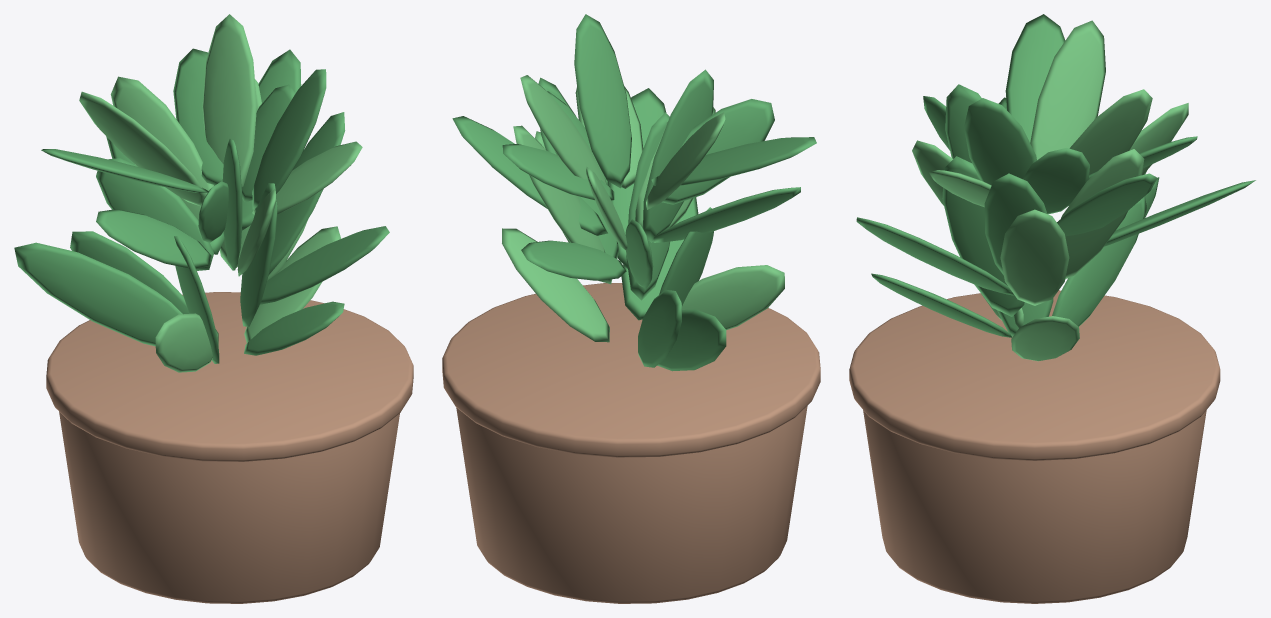
File: plant.glb
3 views of the same model, side by side, from view 1: azimuth 30°, elevation 25°; view 2: azimuth 150°, elevation 25°; view 3: azimuth 270°, elevation 25° (orthographic). The views are drawn at different scales.
Visible parts, largest first — view 1: Cone, Cone.001, Sphere.022, Sphere.024, Sphere.005, Sphere.009, Sphere.010, Sphere.006, Sphere.004, Sphere.014, Sphere.011, Sphere.001 (+13 smaller); view 2: Cone, Cone.001, Sphere.005, Sphere.012, Sphere.021, Sphere.007, Sphere.024, Sphere.020, Sphere.017, Sphere.016, Sphere.019, Sphere.022 (+14 smaller); view 3: Cone, Cone.001, Sphere.009, Sphere, Sphere.005, Sphere.017, Sphere.002, Sphere.001, Sphere.024, Sphere.003, Sphere.008, Sphere.010 (+12 smaller).
Part boxes in pixels (x1,y1,x2,y2): Cone: (59,411,399,603); Cone.001: (46,292,413,461); Sphere.022: (14,242,182,346); Sphere.024: (202,14,256,187); Sphere.005: (252,69,326,209); Sphere.009: (79,91,206,206); Sphere.010: (260,226,389,304); Sphere.006: (110,76,213,220); Sphere.004: (96,209,212,268); Sphere.014: (96,158,213,270); Sphere.011: (173,48,223,184); Sphere.001: (70,231,188,314); Cone: (456,406,807,603); Cone.001: (442,283,820,457); Sphere.005: (574,14,631,188); Sphere.012: (682,265,784,329); Sphere.021: (502,228,609,342); Sphere.007: (643,69,713,242); Sphere.024: (520,75,606,184); Sphere.020: (662,99,774,204); Sphere.017: (651,137,816,185); Sphere.016: (452,116,607,235); Sphere.019: (521,240,626,280); Sphere.022: (657,309,726,371); Cone: (863,410,1206,603); Cone.001: (849,290,1220,460); Sphere.009: (1030,20,1105,160); Sphere: (1000,209,1069,305); Sphere.005: (964,98,1036,185); Sphere.017: (1005,14,1065,142); Sphere.002: (942,156,1024,316); Sphere.001: (1052,196,1146,326); Sphere.024: (1069,89,1152,174); Sphere.003: (1061,149,1144,278); Sphere.008: (1022,148,1089,214); Sphere.010: (856,217,1013,295).
Bounding box in the file's own units: 52.2 × 68.95 × 53.12.
